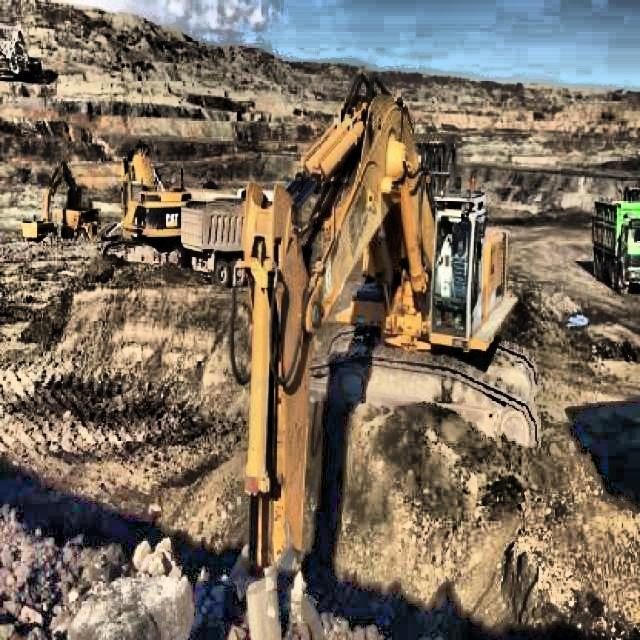dump_truck: (182, 189, 252, 283), (594, 195, 640, 292), (57, 198, 97, 244)
excavator: (228, 86, 536, 628), (105, 144, 186, 270), (20, 160, 77, 245)
